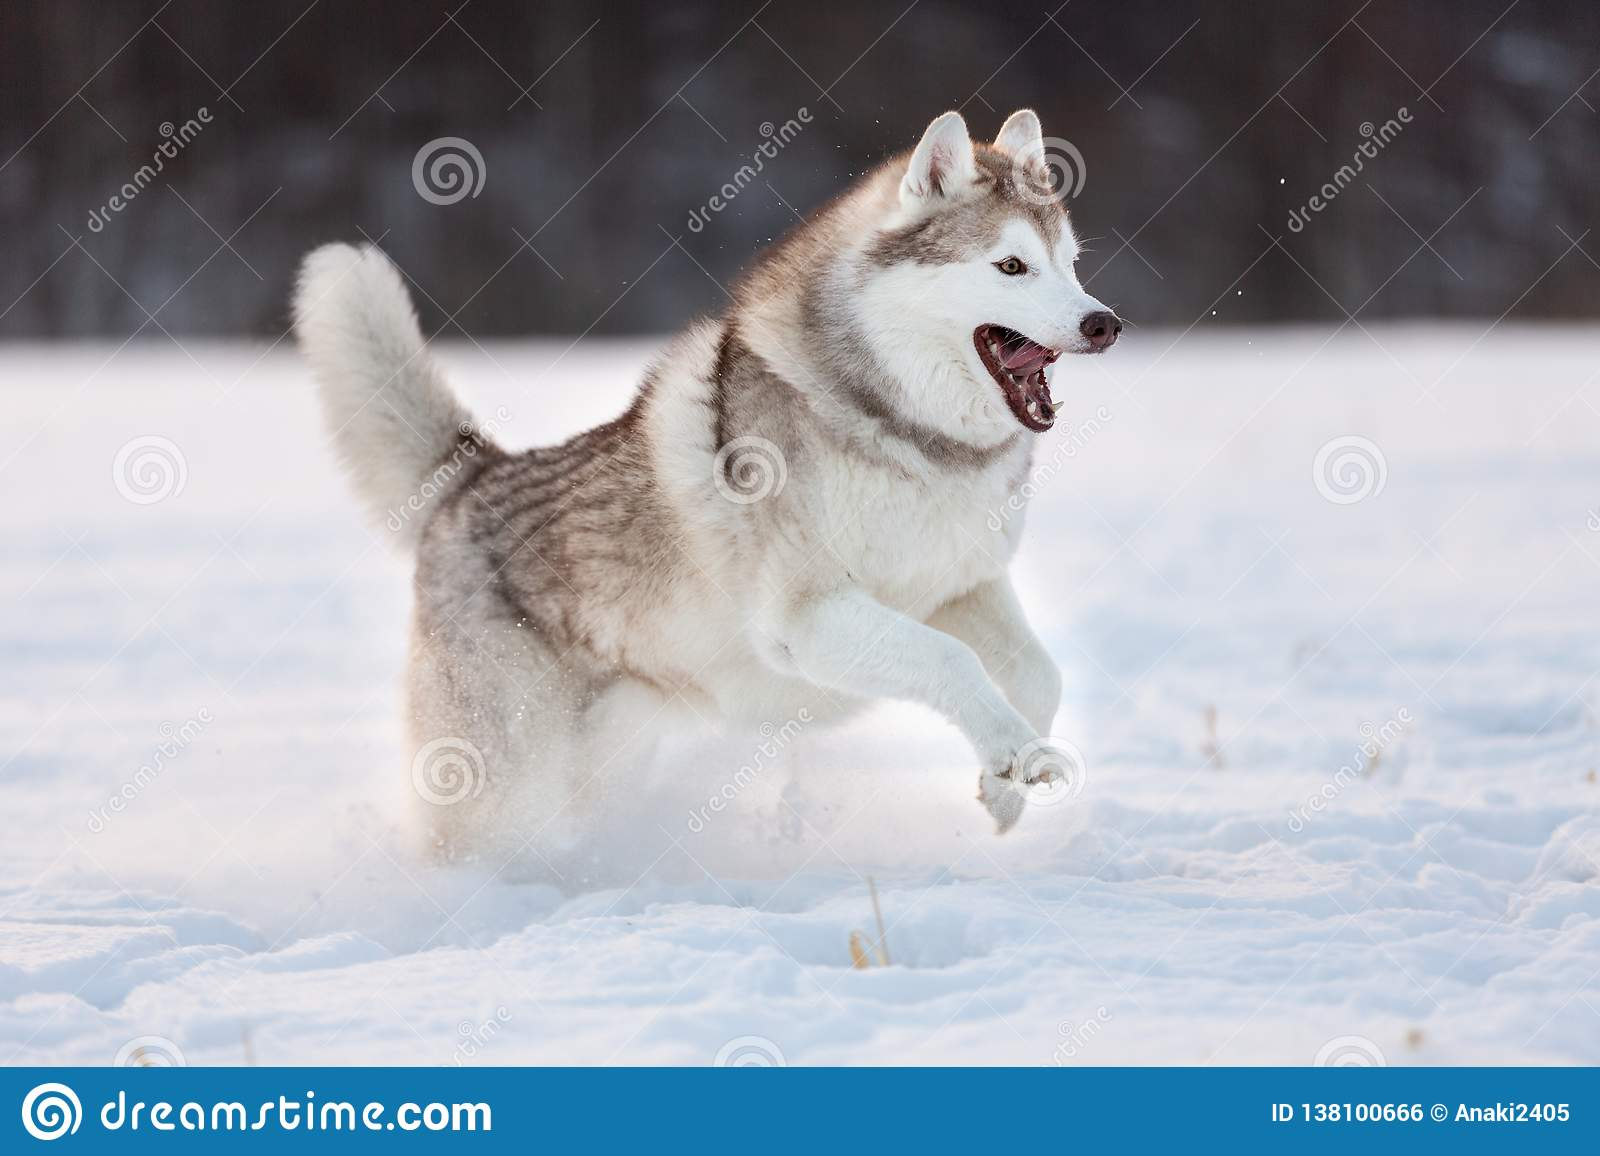husky: (332, 71, 1212, 846)
